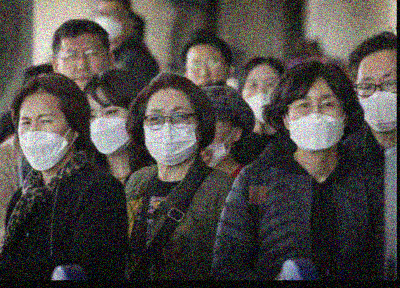with_mask: (288, 91, 348, 154), (143, 103, 198, 162), (19, 110, 72, 171), (356, 71, 397, 131), (88, 101, 132, 156), (243, 76, 281, 124)
without_mask: (55, 42, 107, 92), (184, 52, 229, 89)
